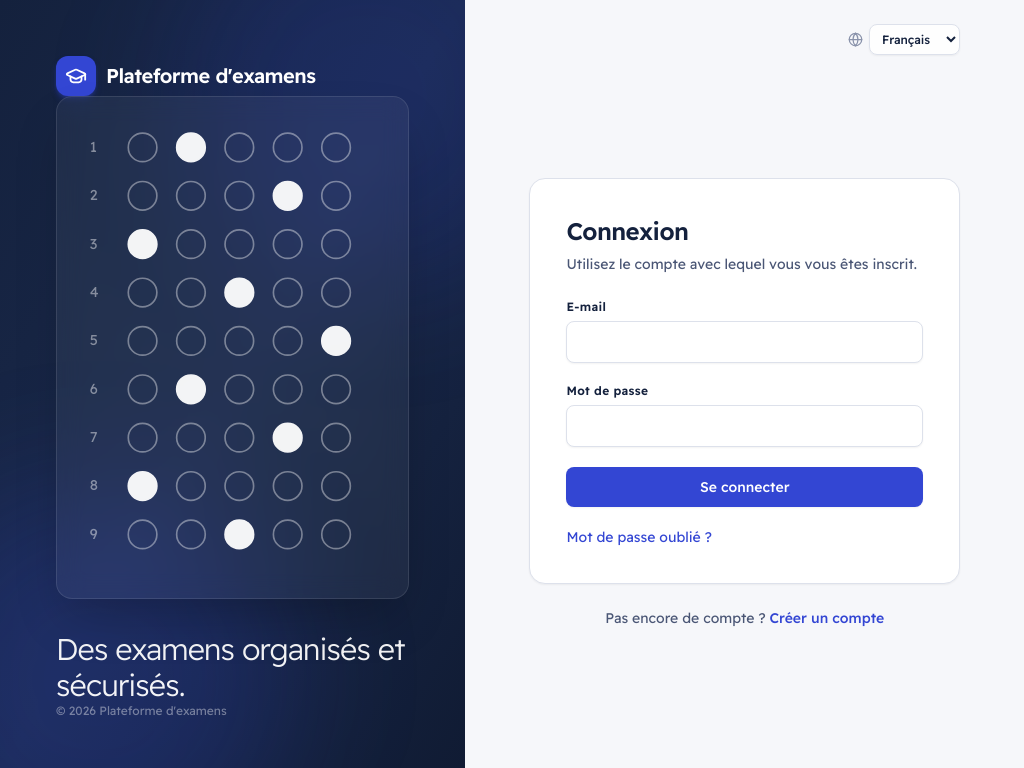
i18n and direction › keeps LTR layout with Arabic text when switching language
The width and height of the screenshot is (1024, 768).
Expected: the heading "Connexion" is shown, [566,216,688,246]
Select "العربية" in the dropdown named "Langue" at (914, 40), box [869,24,960,55]
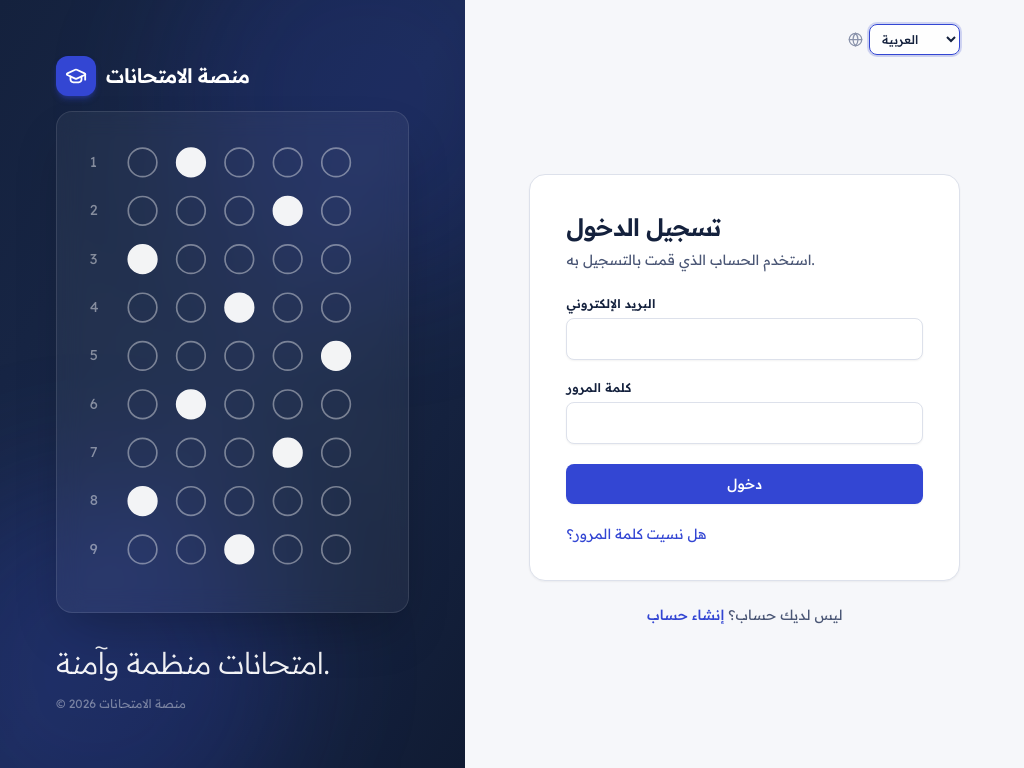
Expected: the heading "تسجيل الدخول" is shown, [566,212,721,242]
